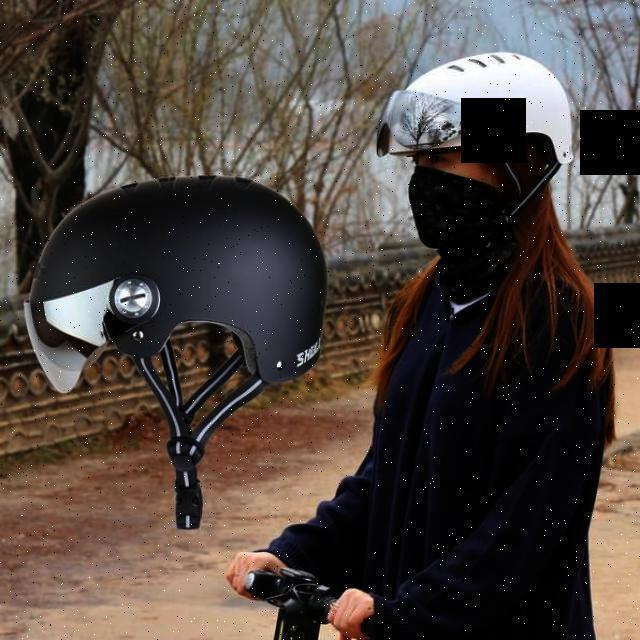helmet: (378, 52, 570, 262)
